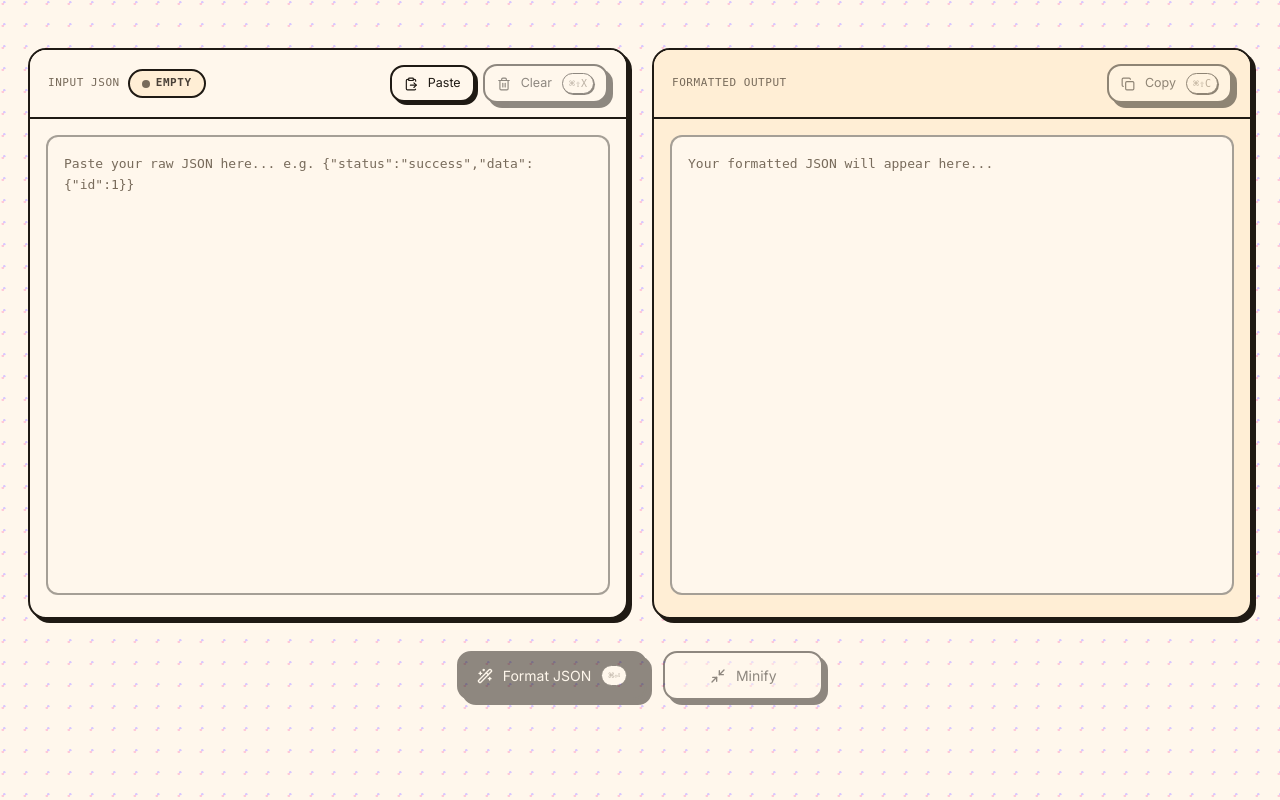
it: JsonFormatterRoute › paste reads clipboard and populates input
The image size is (1280, 800).
Click the button "Paste". click: (432, 84)
box: [390,65,475,102]
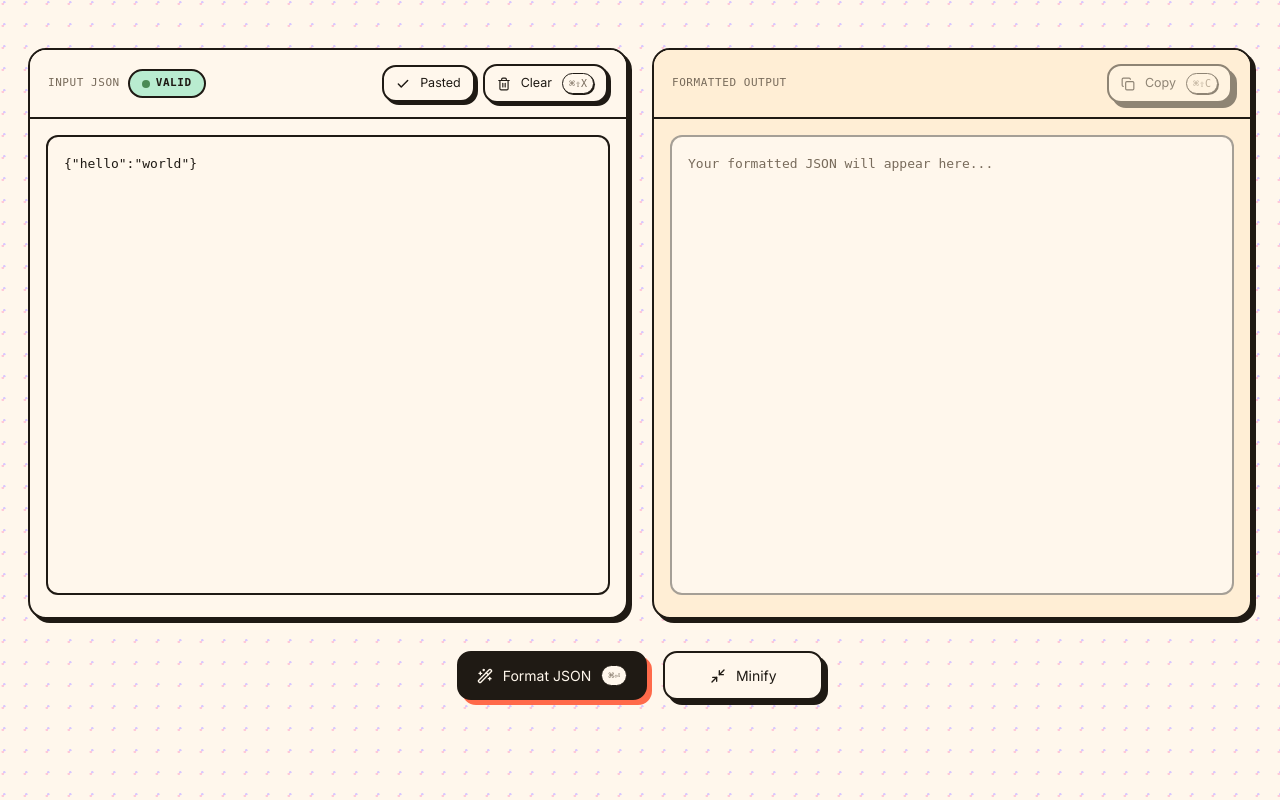
Now the text box with placeholder "Paste your raw JSON here" holds "{\"hello\":\"world\"}", box [46,135,610,595]
